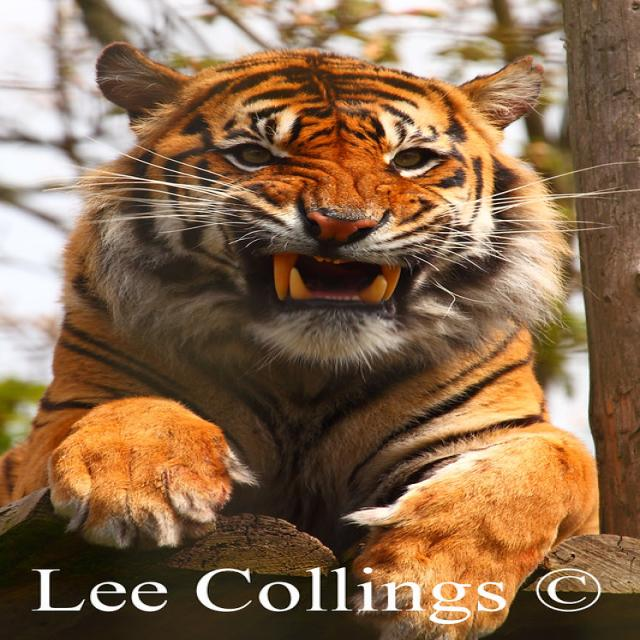Tiger: (24, 40, 602, 638)
